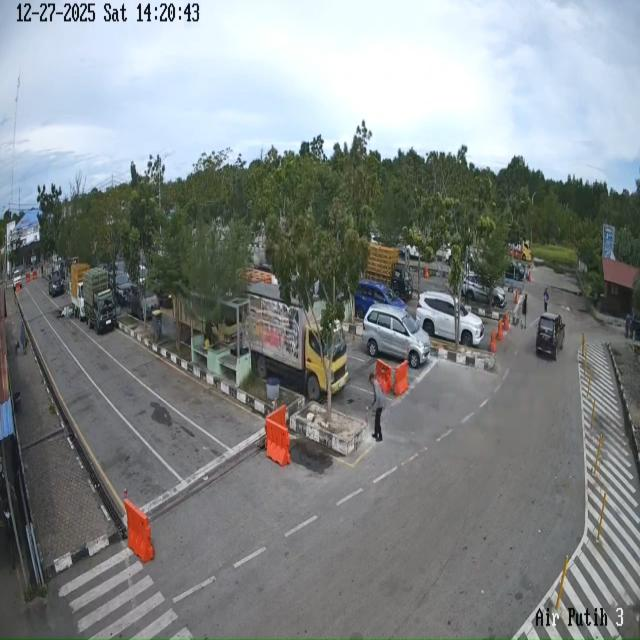Golongan IVA: (362, 304, 430, 369), (416, 292, 484, 346), (354, 279, 406, 320), (462, 271, 507, 308), (536, 312, 564, 360), (128, 285, 160, 319), (48, 270, 64, 298)
Golongan IVB: (365, 242, 413, 300), (82, 267, 116, 334), (70, 262, 90, 322)
Golongan VB: (248, 283, 348, 400)
